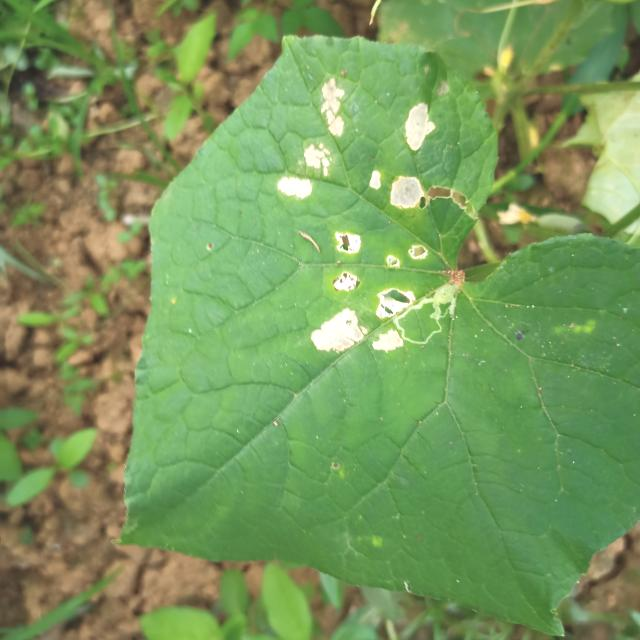disease_cucumber: (312, 230, 412, 352), (279, 78, 344, 198), (370, 103, 436, 208)
